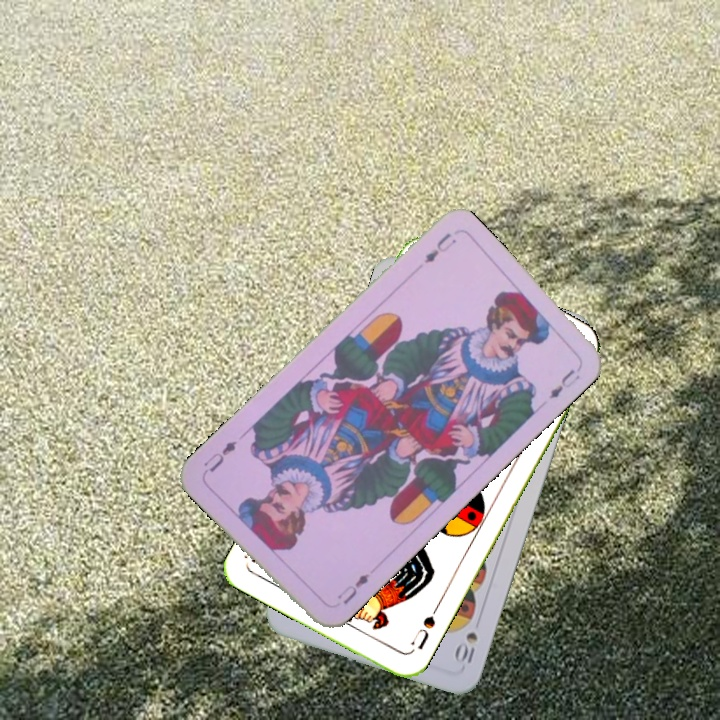EU: (333, 569, 373, 608), (420, 228, 459, 266)
S10: (452, 628, 480, 666)
SU: (406, 601, 442, 656)
